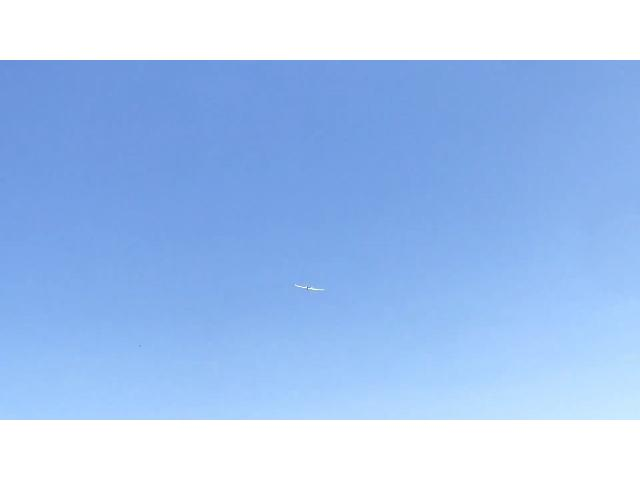Anti-Drone: (275, 274, 339, 302)
